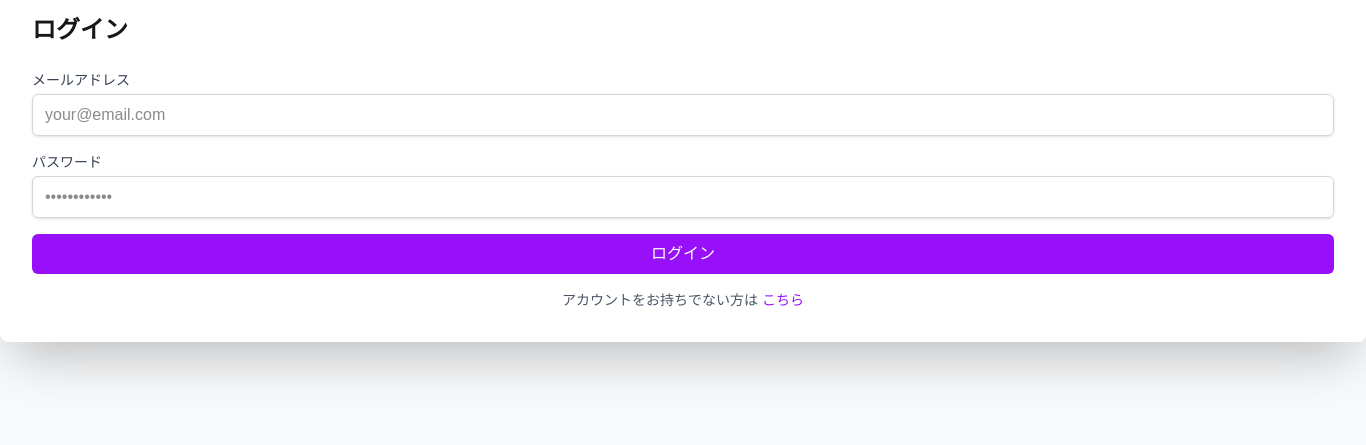
it: LoginForm › バリデーションエラー › メールアドレス形式が不正な場合エラーが表示される
Type "invalid-email" into the field labelled "メールアドレス".
click(683, 115); type("invalid-email")  # box [32,94,1334,136]
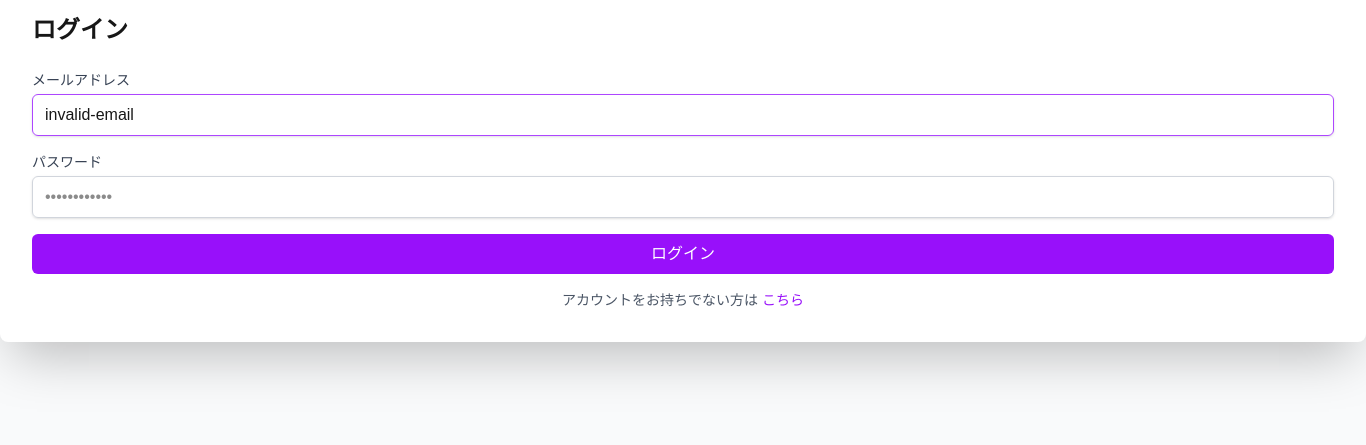
Click the button "ログイン".
click(683, 254)  # box [32,234,1334,274]
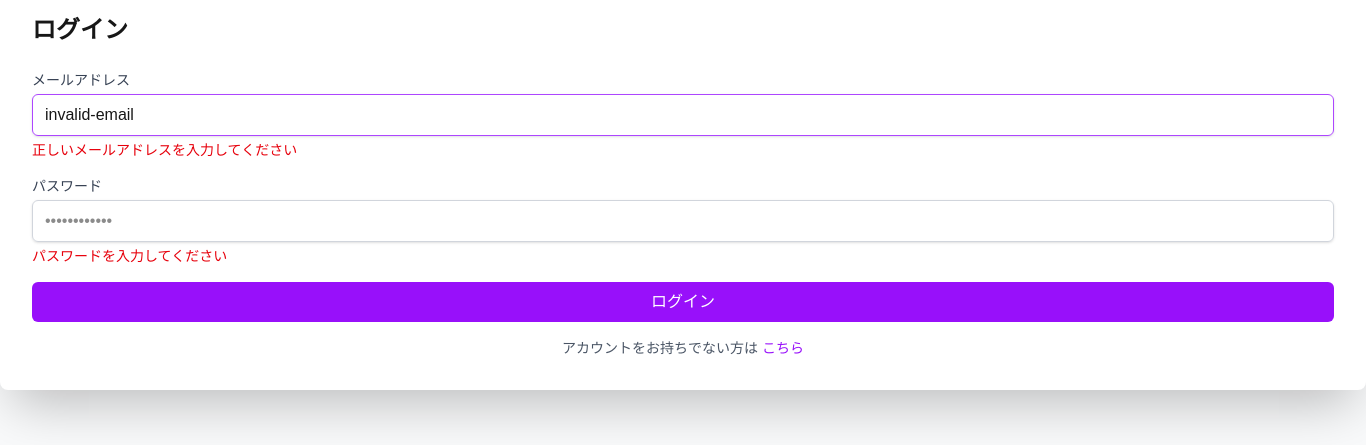
expect the text "正しいメールアドレスを入力してください" is shown: met, box [32,142,297,158]
